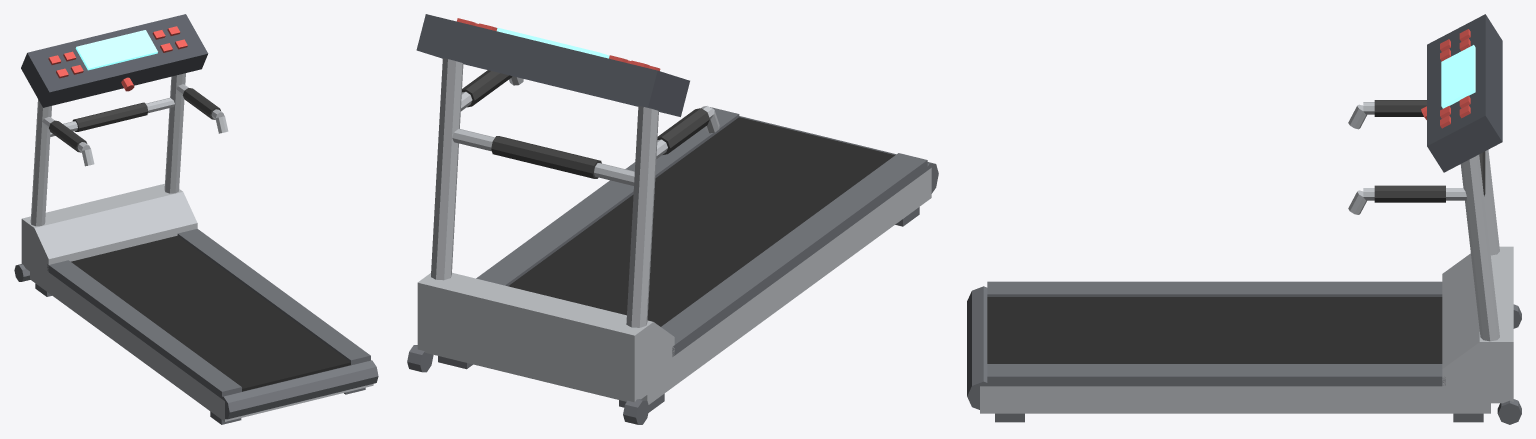
File: treadmill.fbx
The picture shows the model from 3 angles, left to right: view 1: azimuth 30°, elevation 25°; view 2: azimuth 150°, elevation 25°; view 3: azimuth 270°, elevation 25°; orthographic projection. The views are drawn at different scales.
Visible parts, largest first — view 1: Treadmill_Belt, Treadmill_Frame, Treadmill_Rails, Treadmill_Console, Treadmill_Grips, Treadmill_Screen, Treadmill_Accent; view 2: Treadmill_Frame, Treadmill_Belt, Treadmill_Rails, Treadmill_Console, Treadmill_Grips, Treadmill_Screen; view 3: Treadmill_Belt, Treadmill_Frame, Treadmill_Rails, Treadmill_Console, Treadmill_Grips, Treadmill_Screen, Treadmill_Accent.
Part boxes in pixels (x1,y1,x2,y2): Treadmill_Belt: [71, 235, 350, 391]; Treadmill_Frame: [21, 73, 373, 421]; Treadmill_Rails: [14, 228, 378, 424]; Treadmill_Console: [21, 14, 208, 107]; Treadmill_Grips: [49, 88, 220, 152]; Treadmill_Screen: [75, 30, 157, 70]; Treadmill_Accent: [48, 26, 187, 91]; Treadmill_Frame: [417, 58, 931, 404]; Treadmill_Belt: [508, 117, 894, 326]; Treadmill_Rails: [407, 107, 938, 424]; Treadmill_Console: [416, 14, 689, 116]; Treadmill_Grips: [462, 70, 709, 178]; Treadmill_Screen: [496, 27, 609, 58]; Treadmill_Belt: [987, 297, 1442, 363]; Treadmill_Frame: [980, 102, 1513, 413]; Treadmill_Rails: [967, 281, 1521, 424]; Treadmill_Console: [1427, 14, 1502, 172]; Treadmill_Grips: [1374, 100, 1485, 202]; Treadmill_Screen: [1441, 45, 1475, 108]; Treadmill_Accent: [1421, 29, 1470, 128].
Bounding box in the file's own units: 3.2 × 4.57 × 7.38.
